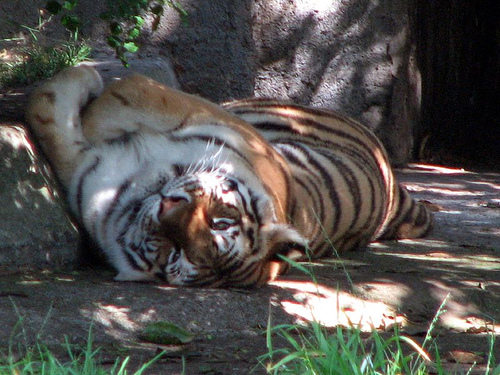Tigre: (39, 72, 443, 291)
